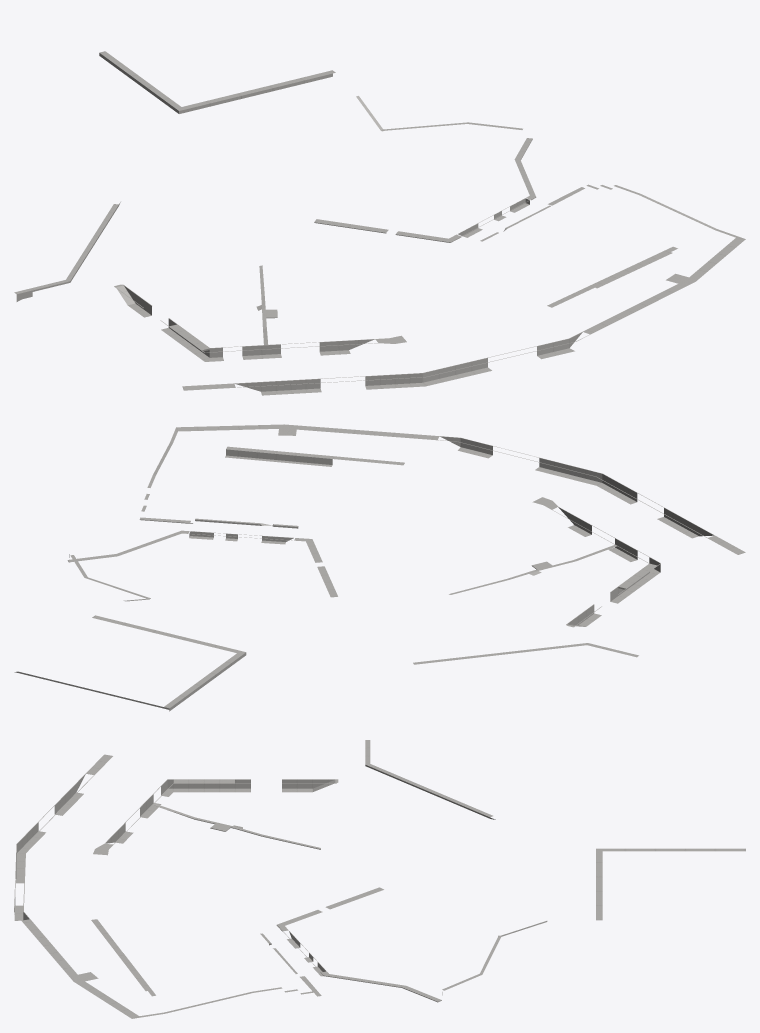
The model's file is kd_stage_136282_3_17_bounded.glb.
3 renders of one model, top to bottom at view 1: azimuth 30°, elevation 25°; view 2: azimuth 150°, elevation 25°; view 3: azimuth 270°, elevation 25°, orthographic. The views are drawn at different scales.
Parts seen in each view (by area): view 1: kd_stage_136282_3_17_bounded; view 2: kd_stage_136282_3_17_bounded; view 3: kd_stage_136282_3_17_bounded.
Boxes of the visible parts, left/top/right/bottom form: kd_stage_136282_3_17_bounded: left=14, top=51, right=745, bottom=395; kd_stage_136282_3_17_bounded: left=14, top=424, right=745, bottom=711; kd_stage_136282_3_17_bounded: left=14, top=740, right=745, bottom=1018.
Size of the model in its own units: 20 by 1.15 by 22.3.
Materials: 1 (1 with a texture image).
